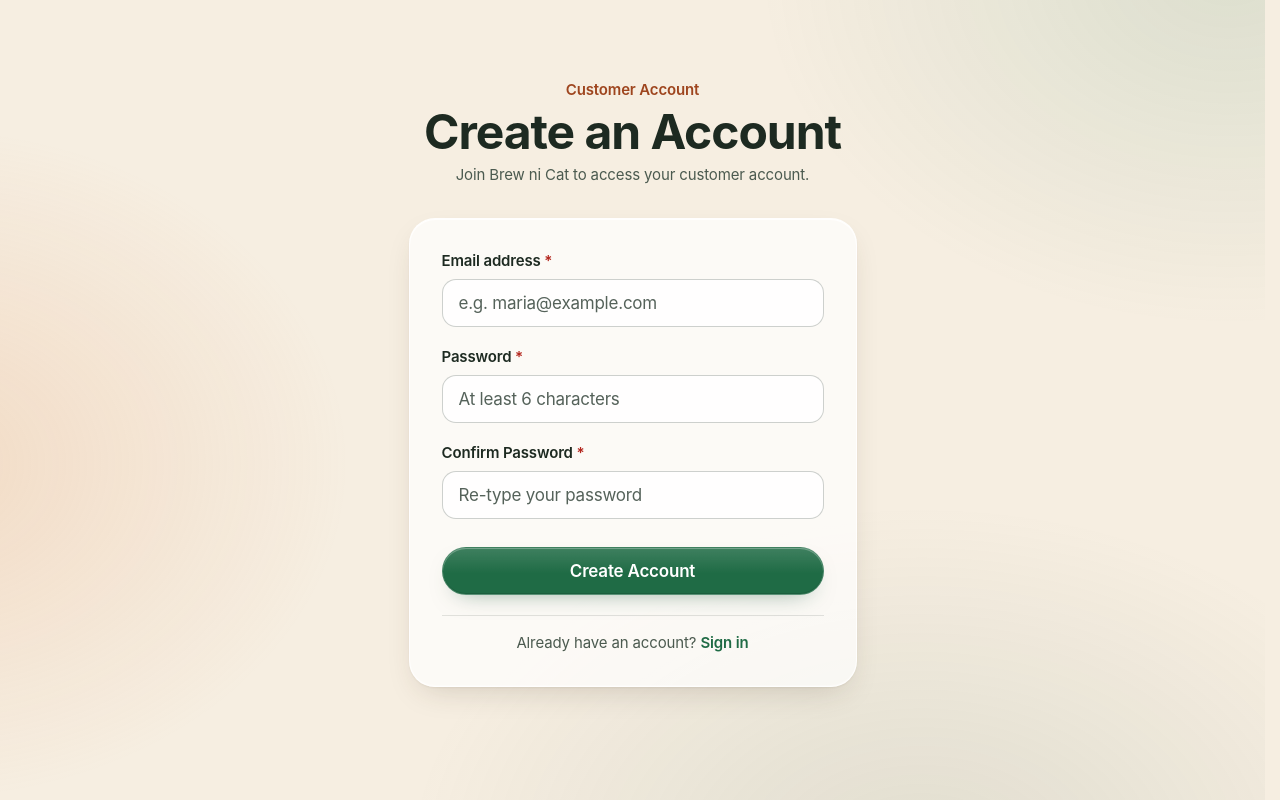
Account Forms Component Tests › SignUpView (FR-031, FR-035) › TC-P4-161 — shows validation errors on empty or invalid inputs
The image size is (1280, 800).
Click the button "Create Account" at (632, 571), box [442,547,824,595]
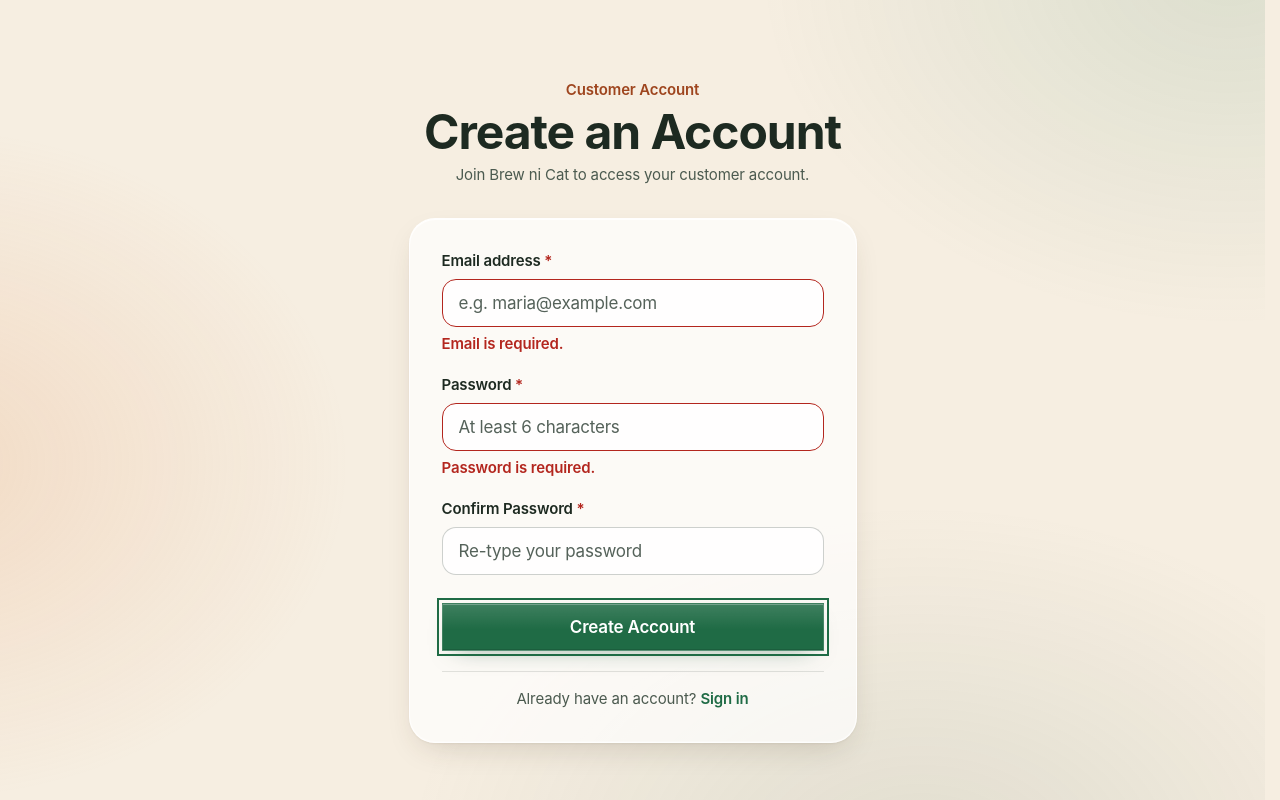
Now the text "Email is required." is shown, box [442,334,564,353]
Now the text "Password is required." is shown, box [442,458,595,477]
